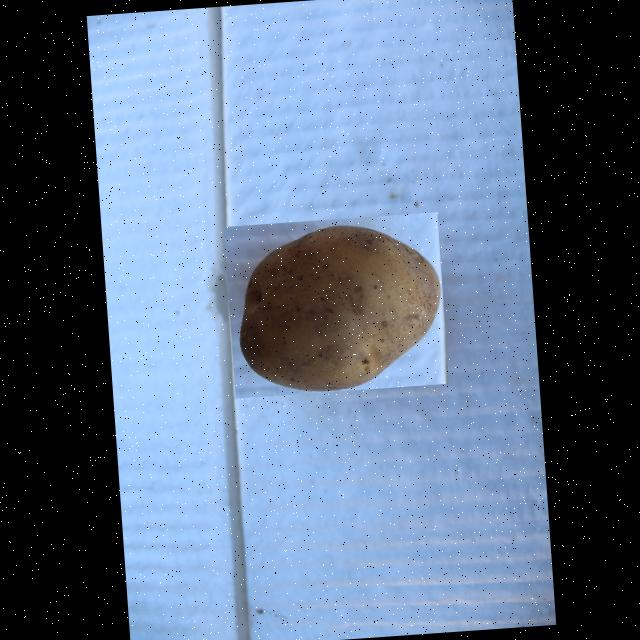Diseased-fungal potato: (222, 212, 448, 398)
